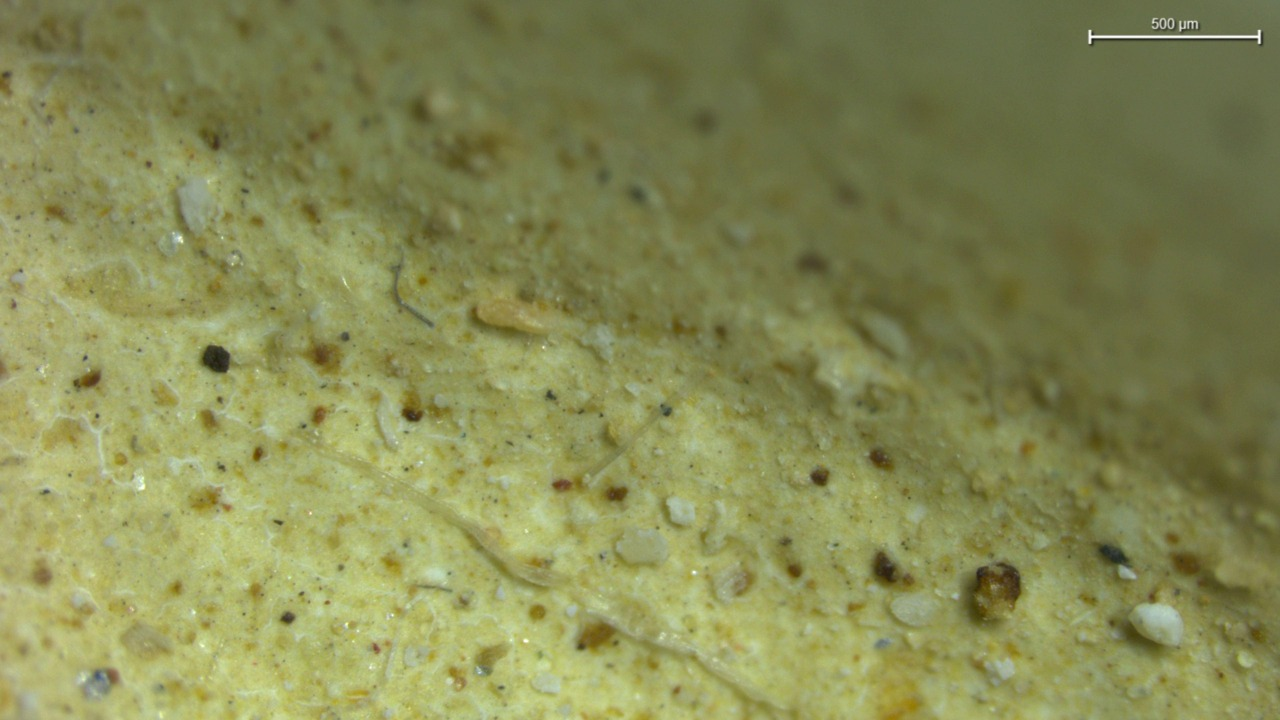microplastic_fragment: (475, 293, 552, 335), (1128, 603, 1184, 647), (178, 177, 214, 232), (668, 495, 694, 523)
